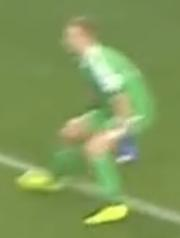goalkeeper: (6, 11, 180, 238)
